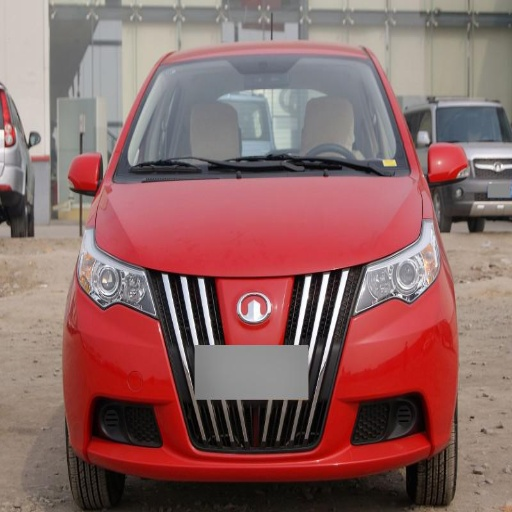front_bumper: (72, 264, 454, 478)
front_right_light: (77, 249, 159, 317)
hood: (93, 175, 422, 274)
left_mirror: (427, 144, 463, 186)
